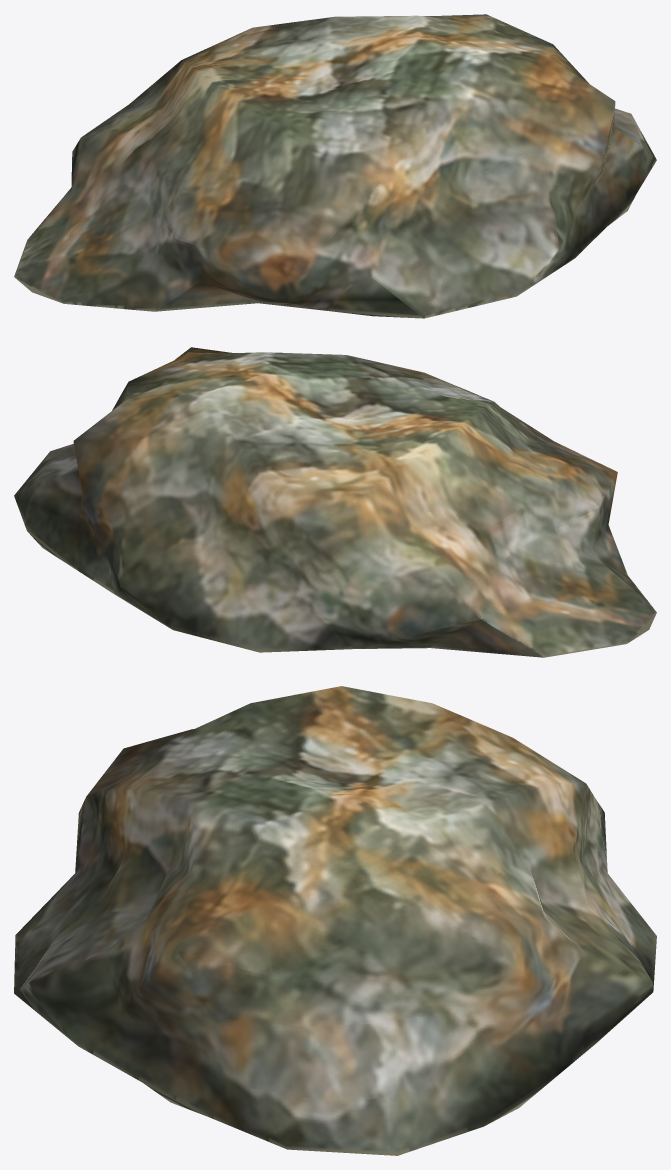
Rendered from item_mm9_10360.glb.
3 renders of one model, top to bottom at view 1: azimuth 30°, elevation 25°; view 2: azimuth 150°, elevation 25°; view 3: azimuth 270°, elevation 25°, orthographic. The views are drawn at different scales.
Visible parts, largest first — view 1: d10360; view 2: d10360; view 3: d10360.
Boxes of the visible parts, x1,y1,x2,y2 form: d10360: [14, 14, 656, 318]; d10360: [14, 347, 656, 657]; d10360: [14, 686, 656, 1155].
Size of the model in its own units: 57.6 by 14.45 by 40.02.
Materials: 1 (1 with a texture image).
